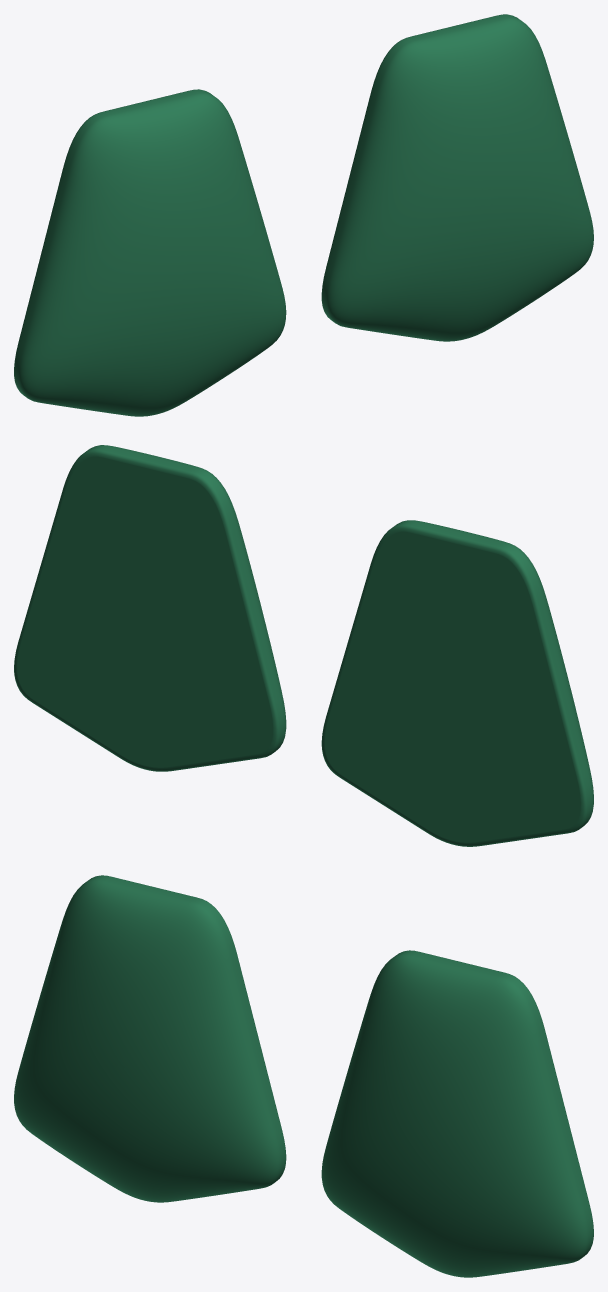
File: matched-pair-v1.glb
The picture shows the model from 3 angles, top to bottom: view 1: azimuth 30°, elevation 25°; view 2: azimuth 150°, elevation 25°; view 3: azimuth 330°, elevation 25°; orthographic projection.
Visible parts, largest first — view 1: Fan Cabochon 20x18x4mm.001, Fan Cabochon 20x18x4mm; view 2: Fan Cabochon 20x18x4mm, Fan Cabochon 20x18x4mm.001; view 3: Fan Cabochon 20x18x4mm.001, Fan Cabochon 20x18x4mm.
Part boxes in pixels (x1,y1,x2,y2): Fan Cabochon 20x18x4mm.001: (321,14,593,341); Fan Cabochon 20x18x4mm: (14,89,286,416); Fan Cabochon 20x18x4mm: (321,520,593,846); Fan Cabochon 20x18x4mm.001: (14,445,286,771); Fan Cabochon 20x18x4mm.001: (321,950,593,1277); Fan Cabochon 20x18x4mm: (14,875,286,1202).
Size of the model in its own units: 0.0389 by 0.02 by 0.00398.
